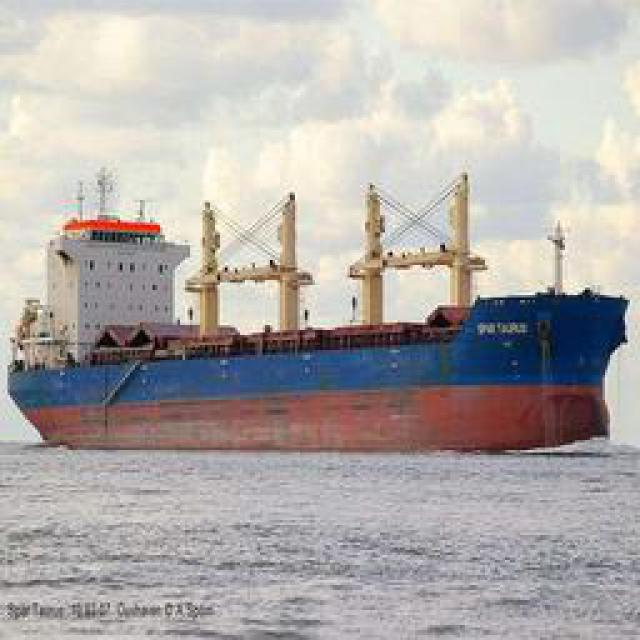Ship: (13, 160, 631, 458)
